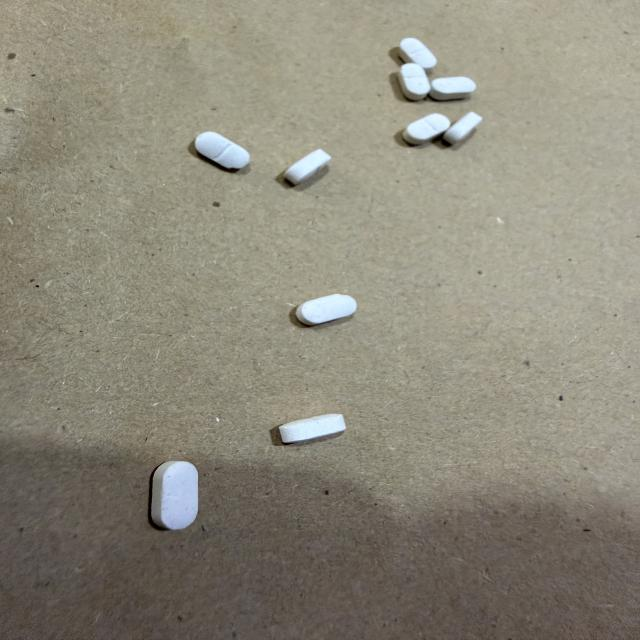pill: (152, 462, 198, 529), (195, 132, 249, 168), (279, 414, 345, 443), (296, 294, 356, 325), (285, 150, 331, 184), (403, 114, 450, 144), (443, 112, 482, 144), (399, 63, 430, 100), (429, 77, 476, 100), (400, 38, 436, 68)
